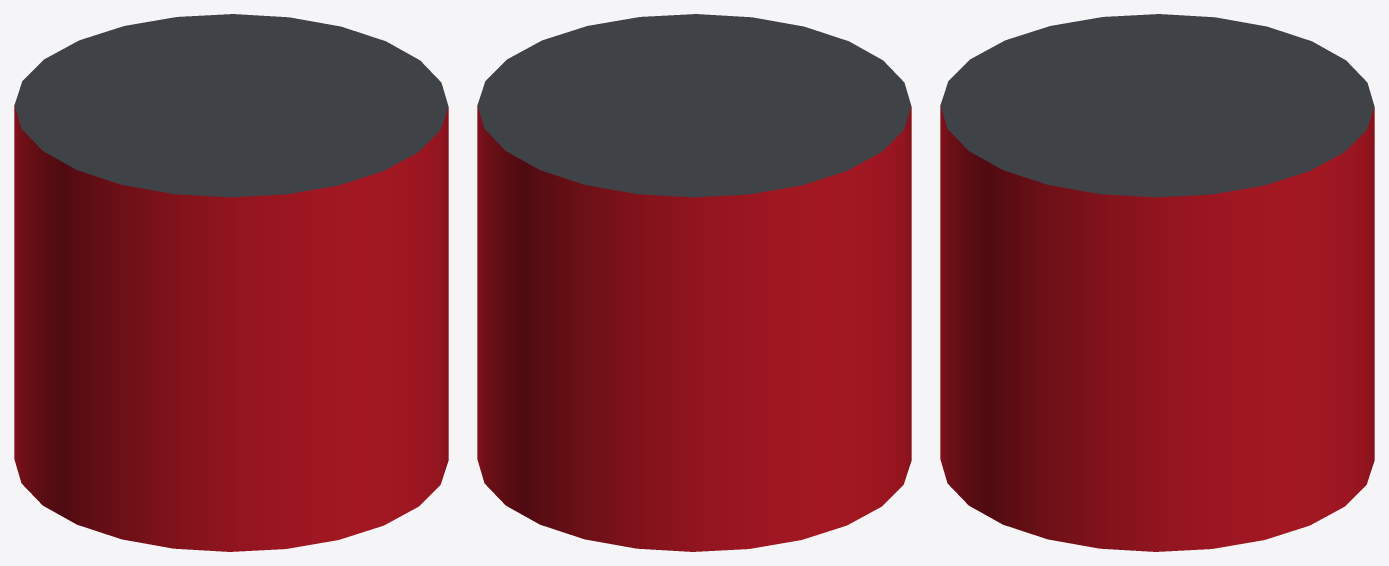
The model's file is cyilnder.fbx.
3 views of the same model, side by side, from view 1: azimuth 30°, elevation 25°; view 2: azimuth 150°, elevation 25°; view 3: azimuth 270°, elevation 25° (orthographic).
Visible parts, largest first — view 1: Group1; view 2: Group1; view 3: Group1.
Boxes of the visible parts, x1=… form: Group1: x1=14, y1=14, x2=448, y2=551; Group1: x1=477, y1=14, x2=911, y2=551; Group1: x1=940, y1=14, x2=1374, y2=551.
Bounding box in the file's own units: 124 × 112 × 124.
